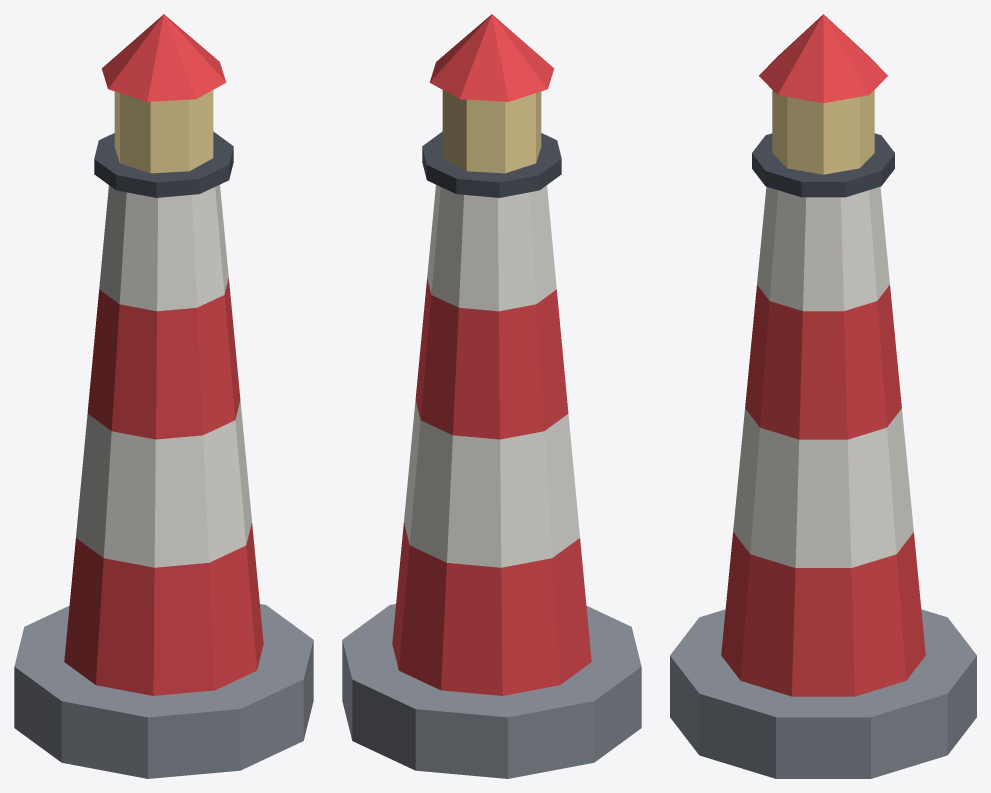
The model's file is lighthouse.glb.
The picture shows the model from 3 angles, left to right: view 1: azimuth 30°, elevation 25°; view 2: azimuth 150°, elevation 25°; view 3: azimuth 270°, elevation 25°; orthographic projection.
Parts seen in each view (by area): view 1: lighthouse; view 2: lighthouse; view 3: lighthouse.
Part boxes in pixels (<box>): lighthouse: <box>14,14,313,778</box>; lighthouse: <box>342,14,641,778</box>; lighthouse: <box>670,14,976,778</box>.
Bounding box in the file's own units: 1.71 × 4.55 × 1.8.
Materials: 1 (1 with a texture image).
